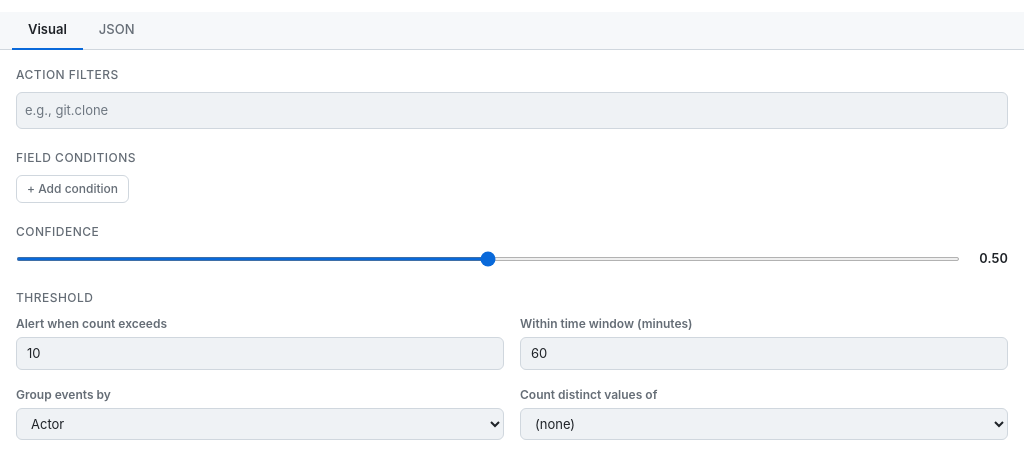
Scenario: RuleConfigEditorContainer › prevents switching to Visual when JSON is invalid
Go to JSON mode
Click the button with test id "mode-json" at (117, 31), box [83,12,150,50]
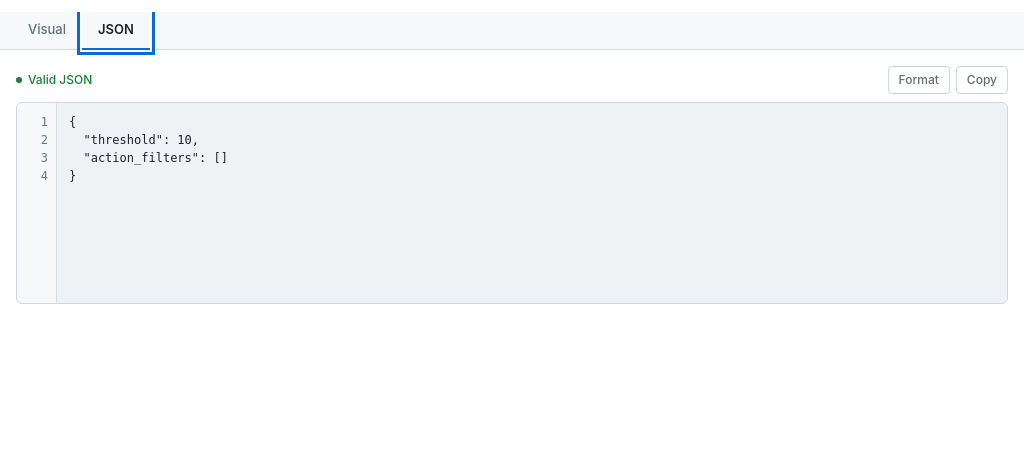
Type invalid JSON
Replace the text in the text box with test id "json-textarea" with "broken" at (532, 202), box [57,102,1007,302]
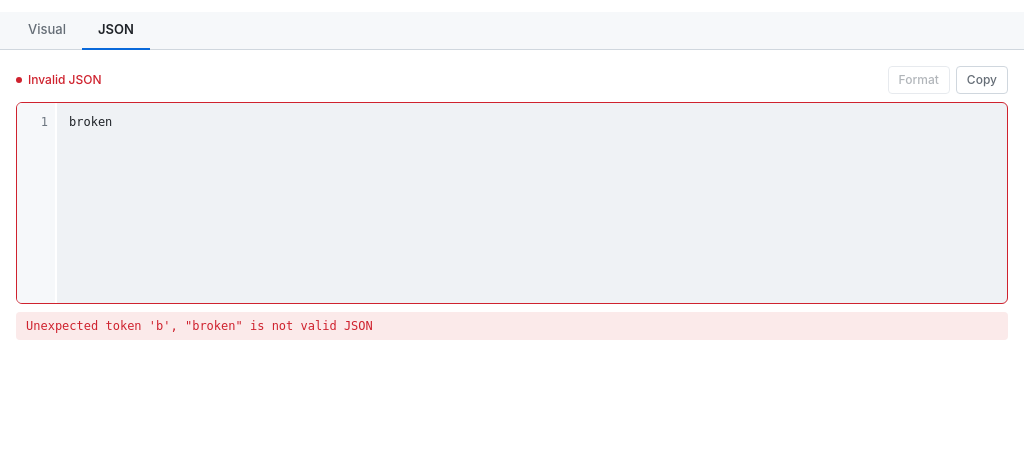
Try to switch to Visual
Click the button with test id "mode-visual" at (47, 31), box [12,12,82,50]
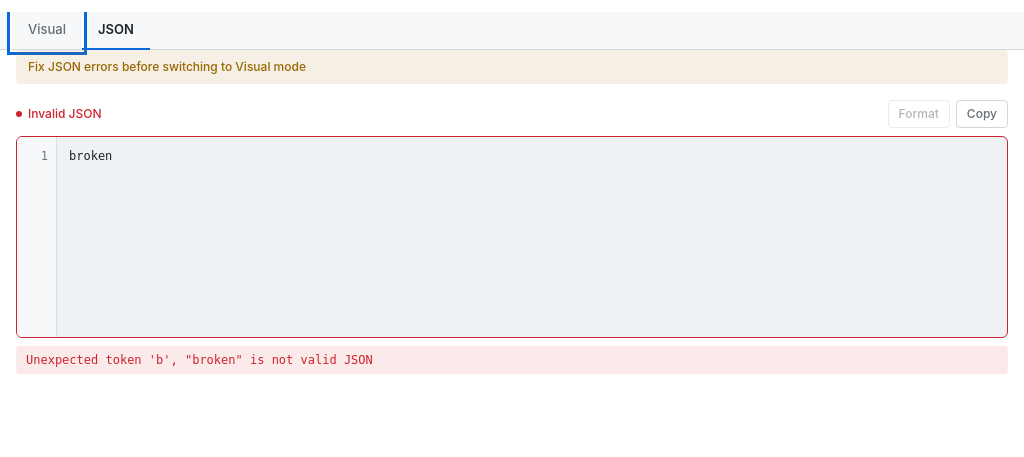
Now the text "Fix JSON errors before switching to Visual mode" is shown, box [16,50,1008,84]
